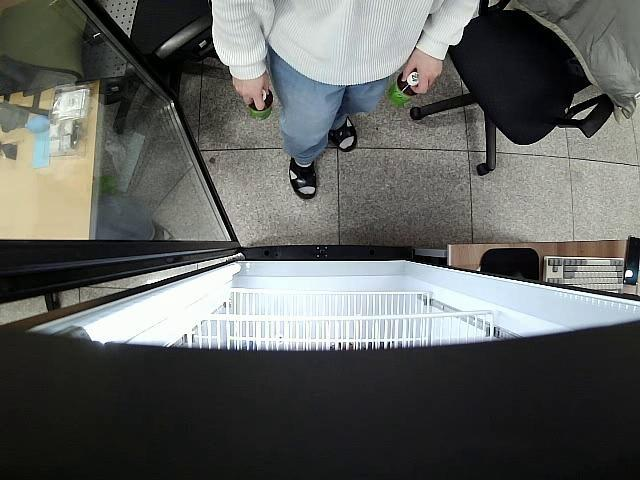19_17cha: (388, 70, 418, 107), (248, 88, 273, 120)
